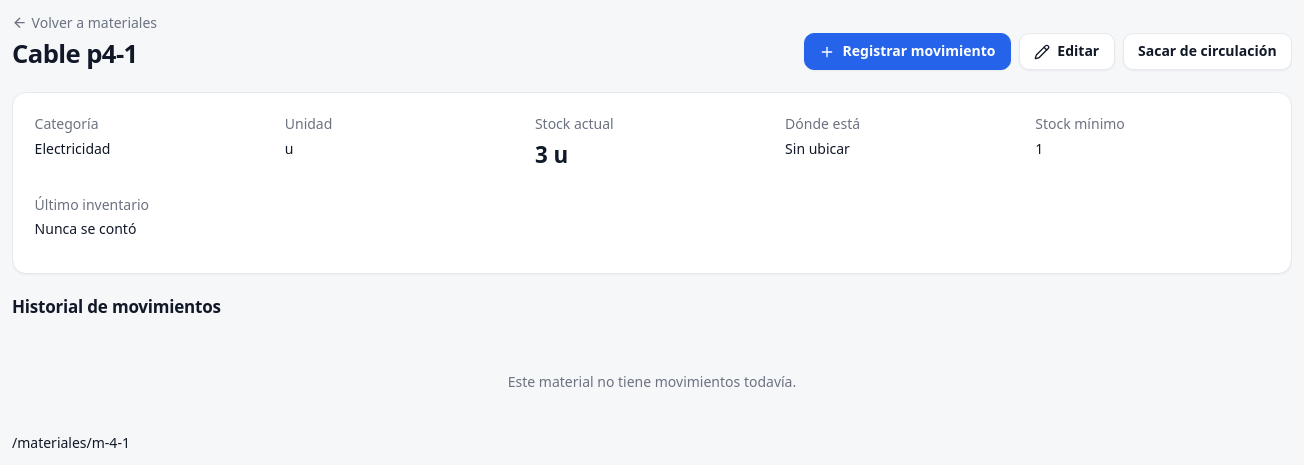
Scenario: volver a la lista de materiales › a la ficha que se abre desde un QR, «Volver» lleva a la lista sola
Click the link "Volver a materiales".
click(85, 22)  # box [12,13,157,32]
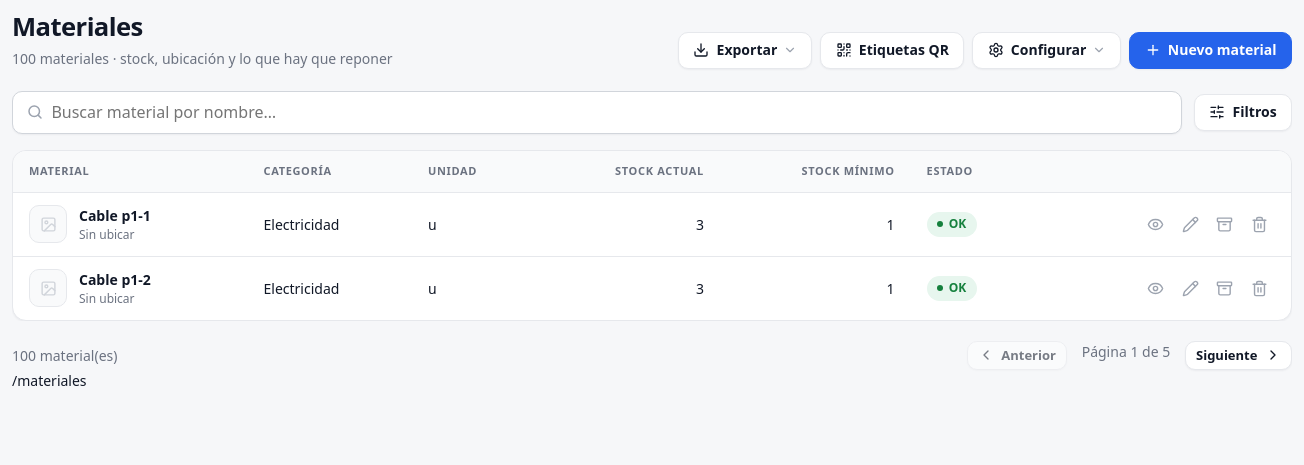
expect the text with test id "direccion" reads "/materiales": met, box [12,371,87,390]
